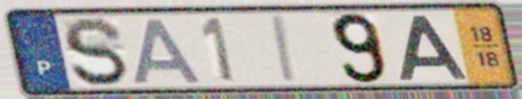1: (198, 15, 239, 85)
9: (328, 11, 391, 86)
A: (131, 16, 207, 86), (397, 13, 471, 82)
I: (270, 13, 301, 85)
S: (59, 15, 132, 89)
